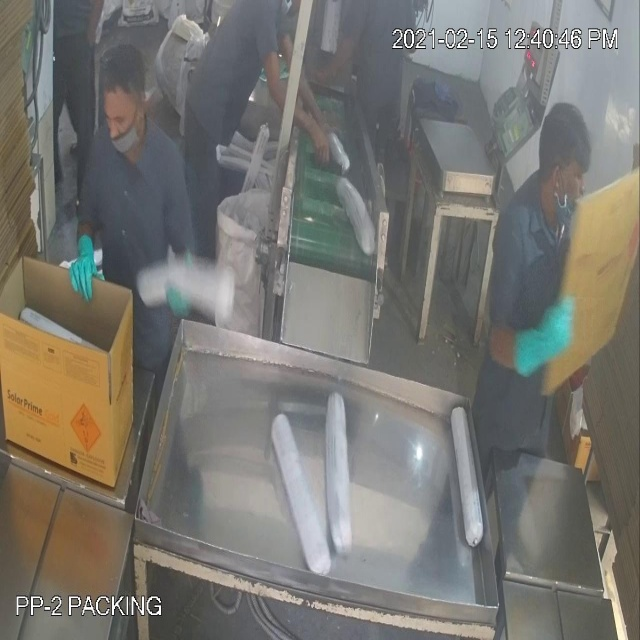Guantes: (511, 303, 582, 390), (71, 215, 104, 315)
Sin_guantes: (266, 53, 334, 171)
